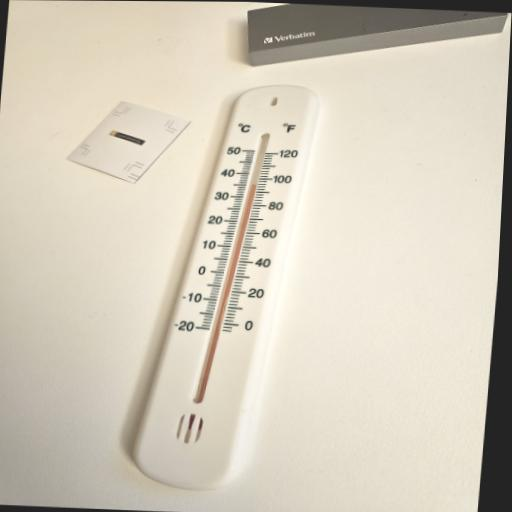thermometer: (130, 79, 322, 495)
